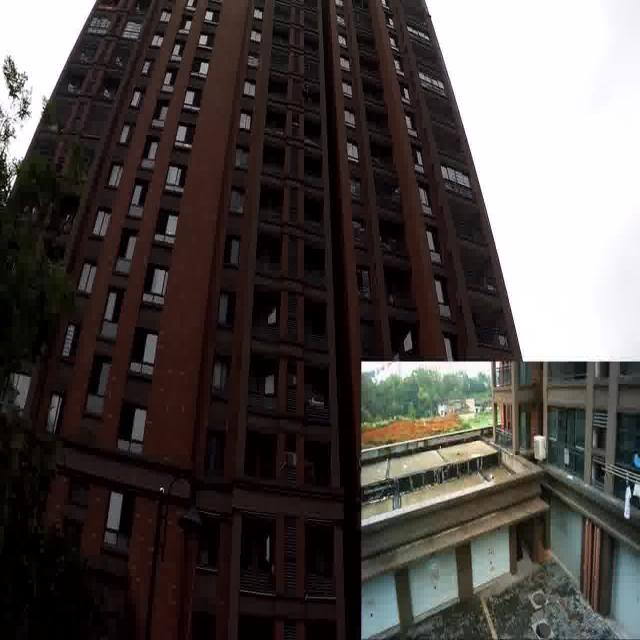drones: (296, 76, 318, 107)
